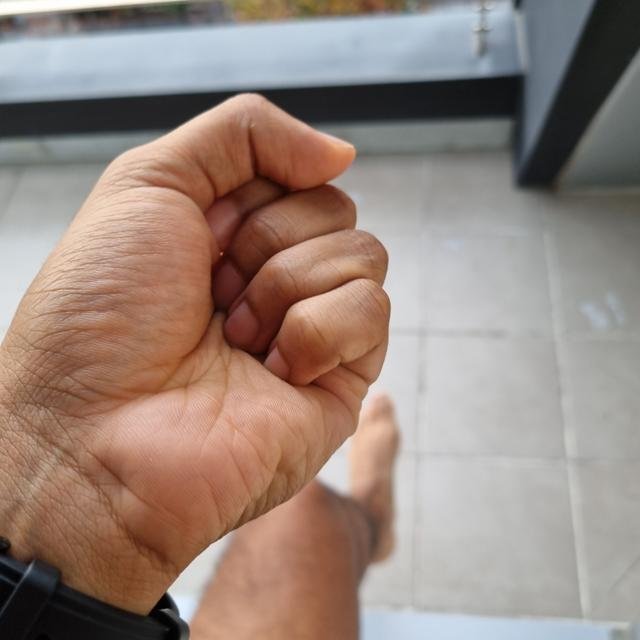Rock: (0, 95, 401, 608)
